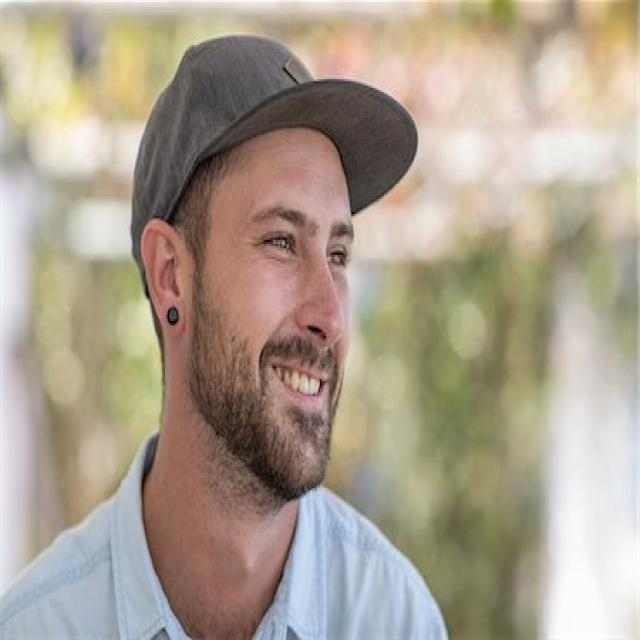cap: (125, 32, 422, 505)
